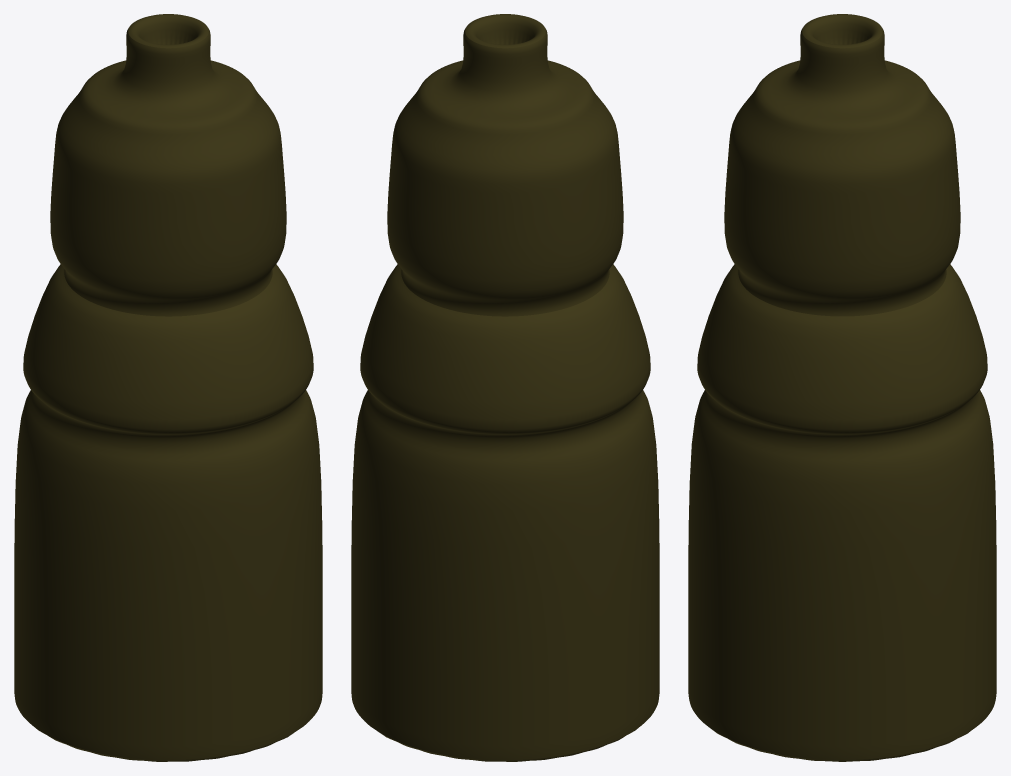
The model's file is glbVape4.glb.
The picture shows the model from 3 angles, left to right: view 1: azimuth 30°, elevation 25°; view 2: azimuth 150°, elevation 25°; view 3: azimuth 270°, elevation 25°; orthographic projection.
Parts seen in each view (by area): view 1: Cylinder.003; view 2: Cylinder.003; view 3: Cylinder.003.
Boxes of the visible parts, x1,y1,x2,y2 form: Cylinder.003: (14,14,322,761); Cylinder.003: (351,14,659,761); Cylinder.003: (688,14,996,761).
Size of the model in its own units: 1.36 by 3.28 by 1.36.
